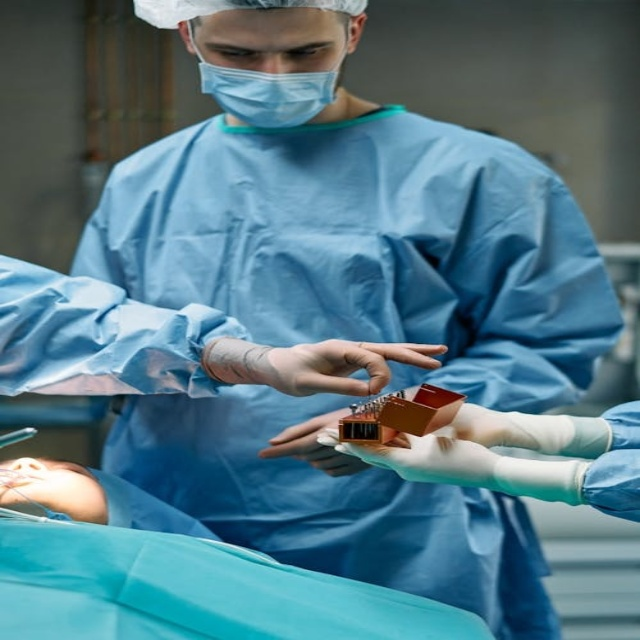Guantes: (323, 416, 596, 505), (204, 318, 449, 400), (248, 405, 348, 488)
Mascara: (188, 44, 352, 126)
Sin_gafas: (198, 32, 335, 68)
